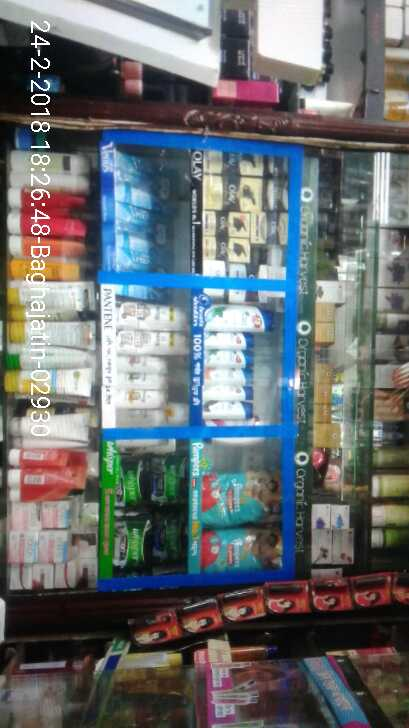venus: (117, 153, 179, 204), (117, 204, 175, 245), (118, 245, 175, 272)
